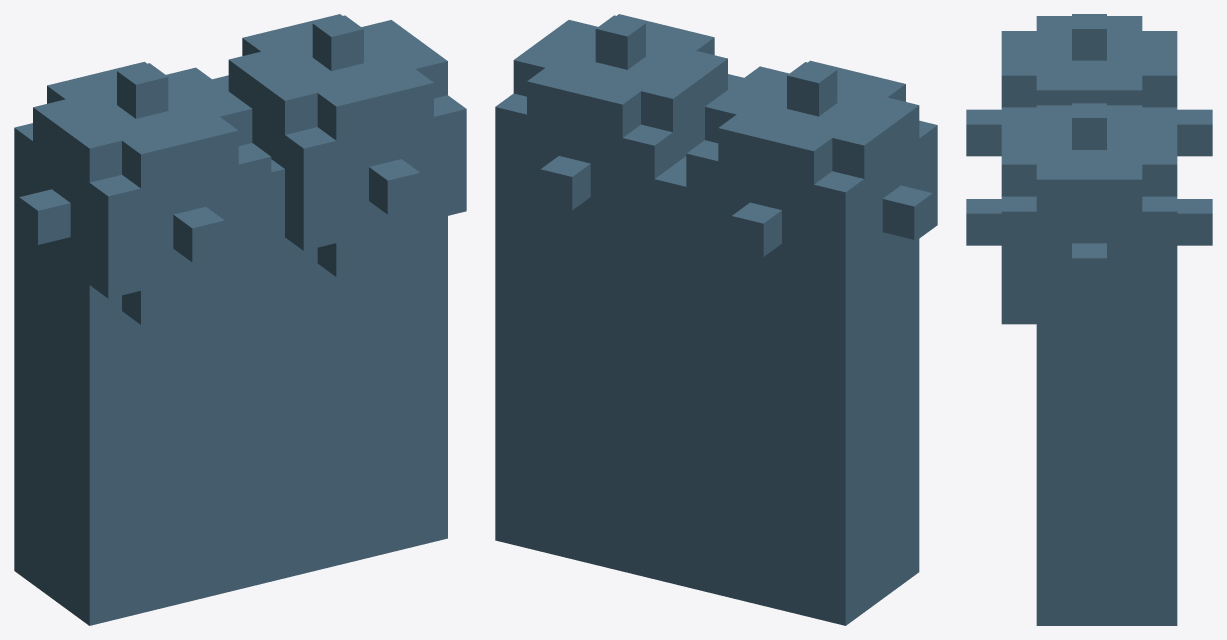
Rendered from security-02.glb.
The picture shows the model from 3 angles, left to right: view 1: azimuth 30°, elevation 25°; view 2: azimuth 150°, elevation 25°; view 3: azimuth 270°, elevation 25°; orthographic projection. The views are drawn at different scales.
Parts seen in each view (by area): view 1: Network shield; view 2: Network shield; view 3: Network shield.
Part boxes in pixels (x1,y1,x2,y2): Network shield: (14,14,466,625); Network shield: (495,14,937,625); Network shield: (966,14,1212,625).
Bounding box in the file's own units: 1.04 × 1.2 × 0.56.
